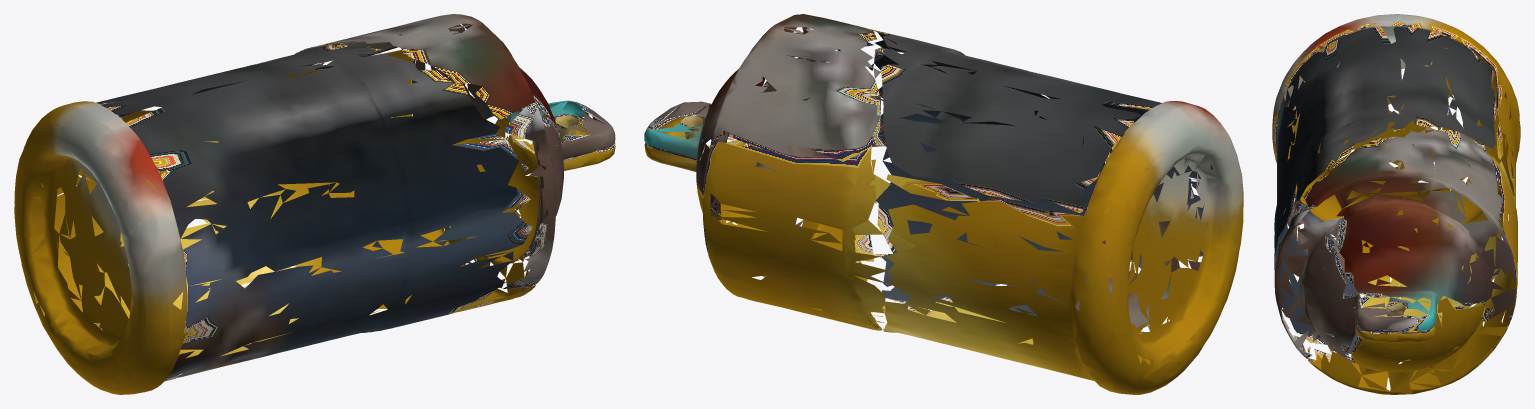
Rendered from metall-spraydose.glb.
The picture shows the model from 3 angles, left to right: view 1: azimuth 30°, elevation 25°; view 2: azimuth 150°, elevation 25°; view 3: azimuth 270°, elevation 25°; orthographic projection. The views are drawn at different scales.
Visible parts, largest first — view 1: metall-spraydose; view 2: metall-spraydose; view 3: metall-spraydose.
Part boxes in pixels (x1,y1,x2,y2): metall-spraydose: [14, 14, 615, 394]; metall-spraydose: [644, 14, 1243, 394]; metall-spraydose: [1272, 14, 1520, 394].
Size of the model in its own units: 0.1307 by 0.0643 by 0.064.
1 material, 1 textured.
